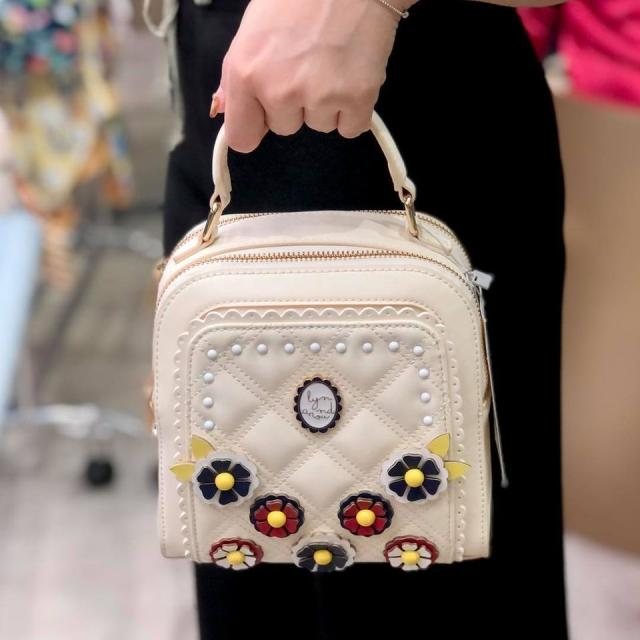Handbag: (153, 182, 491, 565)
